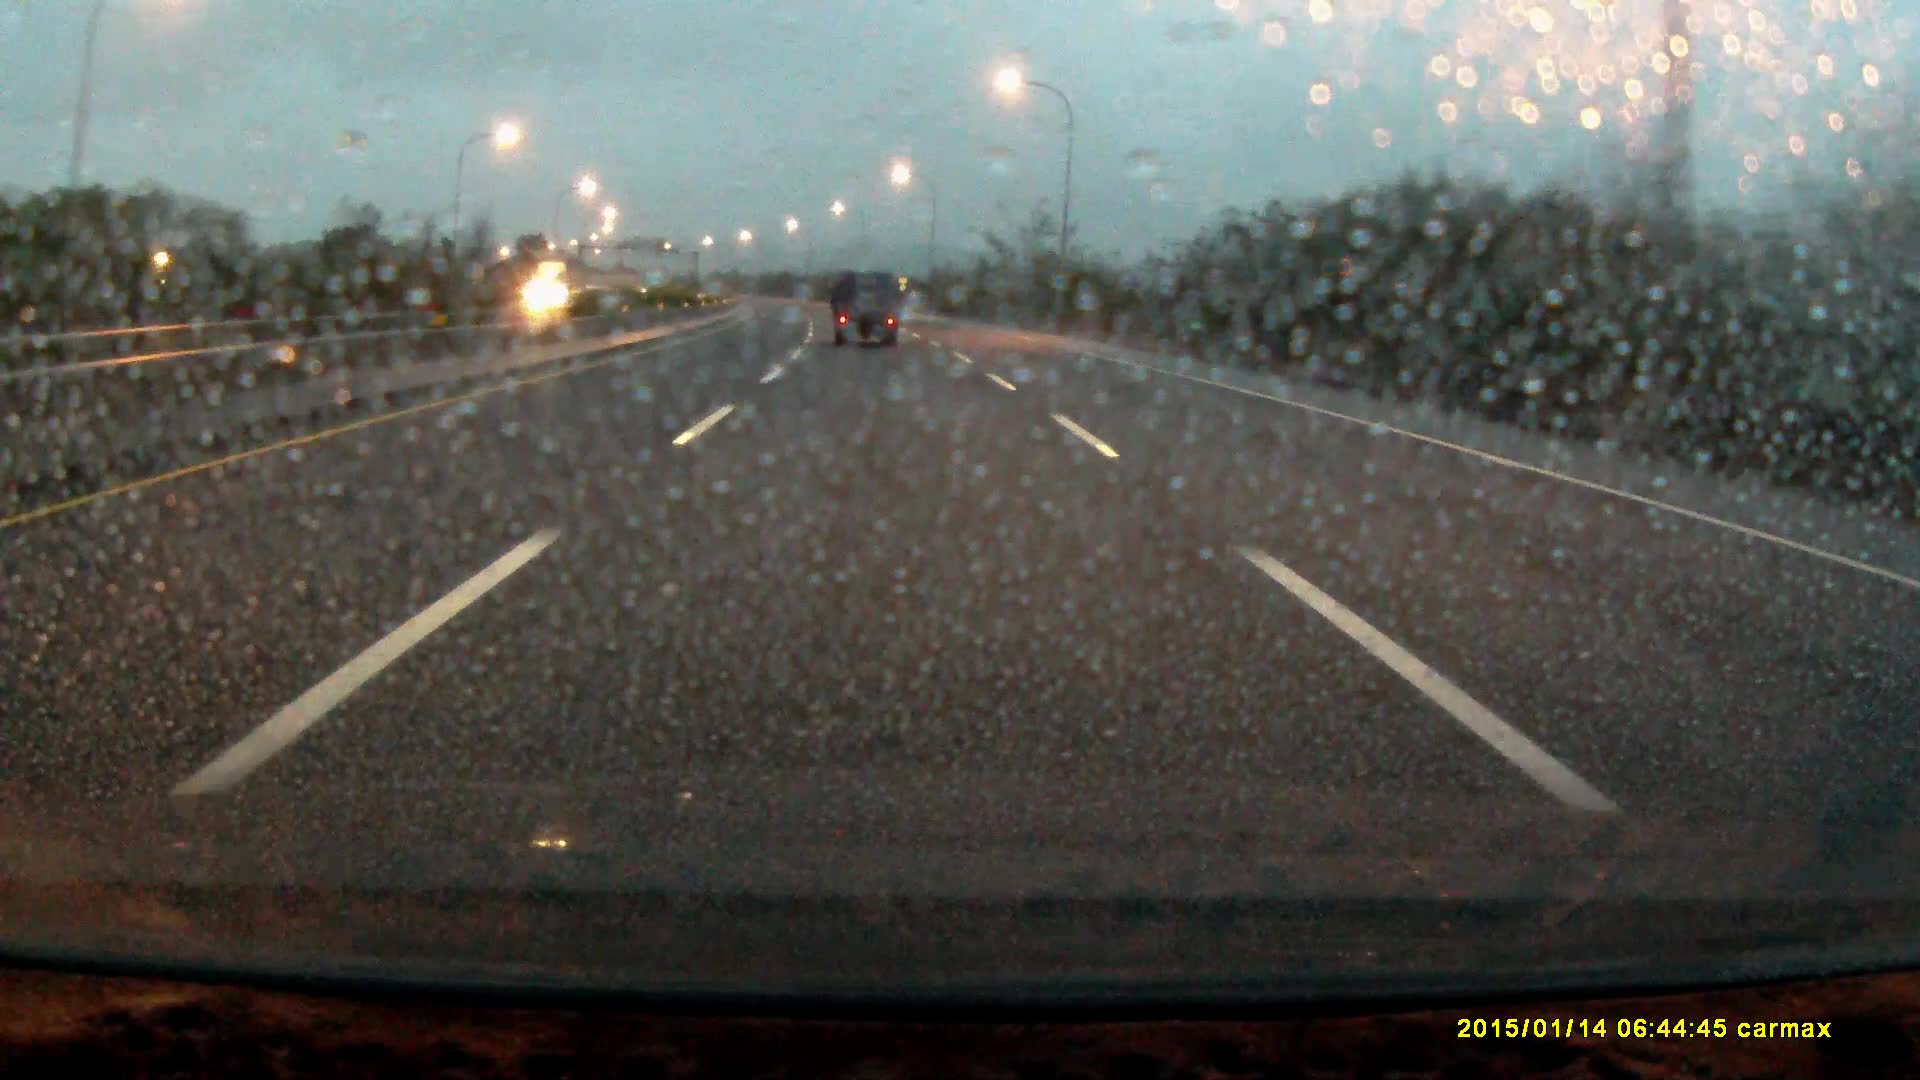vehicle: (833, 272, 903, 351), (529, 260, 609, 324)
